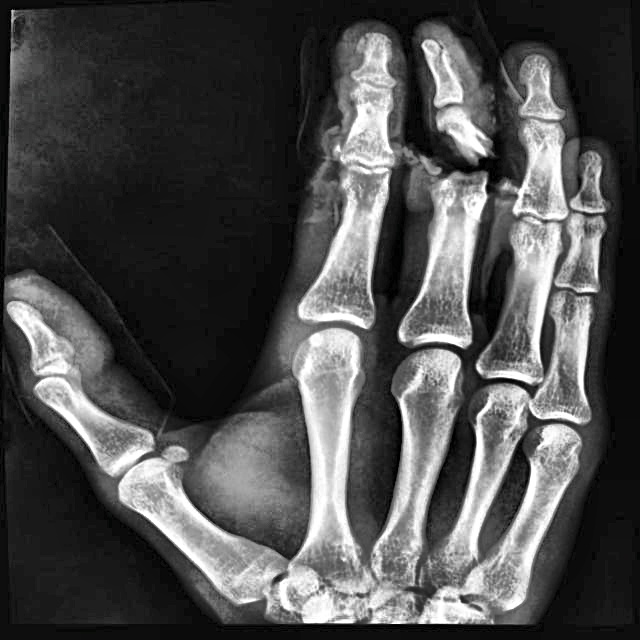Transverse: (419, 108, 506, 199)
